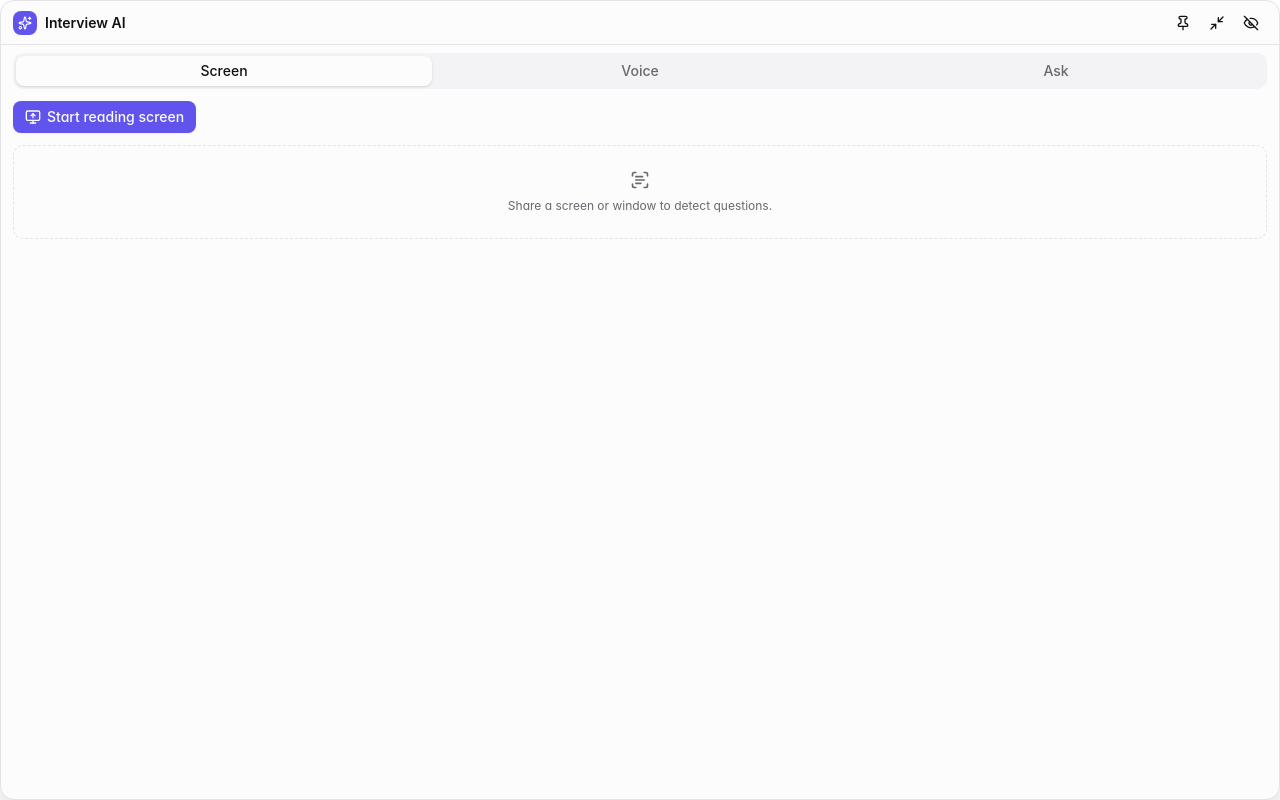
Test: Desktop assistant (inside Electron) › toggles always-on-top and hides to the tray
Later steps or results of the test are not shown.
Click the button named "Keep on top" at (1183, 22), box [1167, 6, 1199, 38]
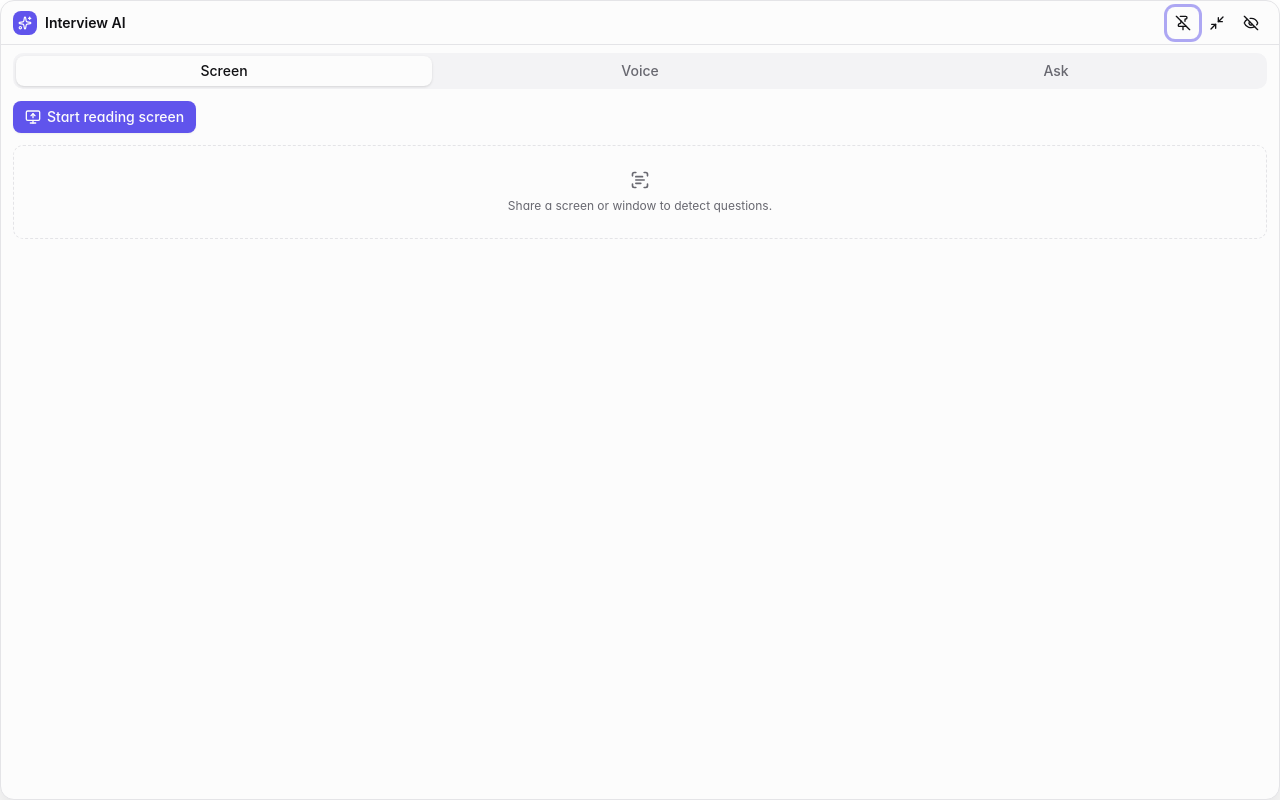
Expected: the button named "Keep on top" is not pressed, [1167, 6, 1199, 38]
